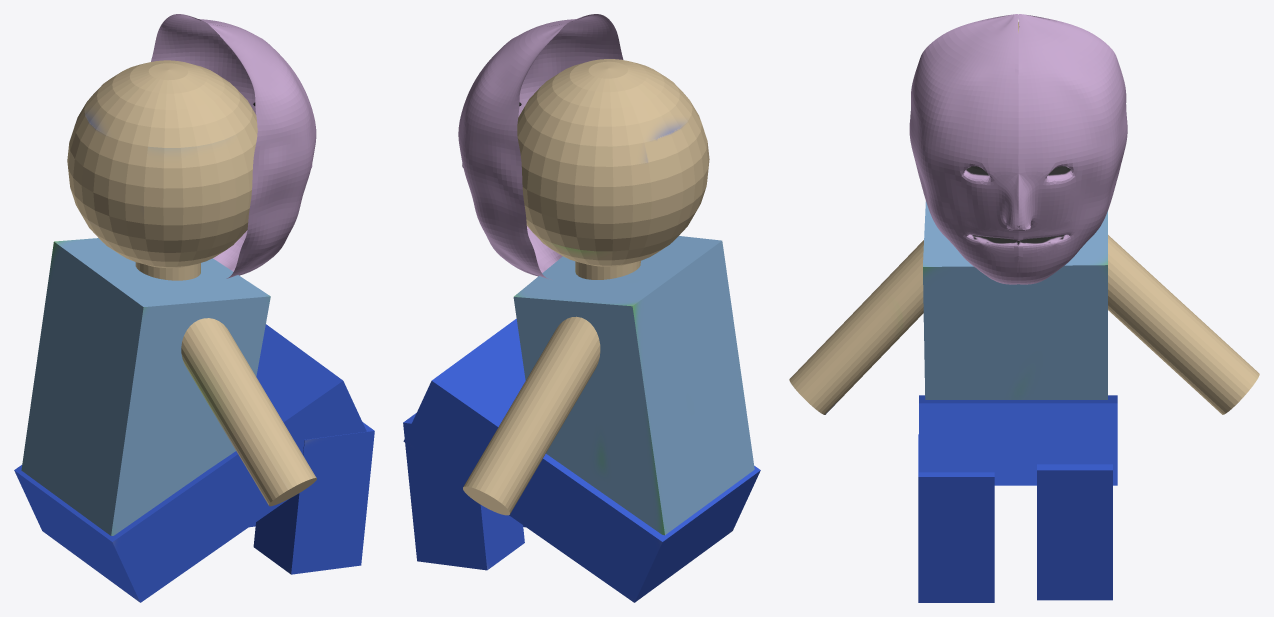
The model's file is person_sitting_neutral_color.fbx.
3 views of the same model, side by side, from view 1: azimuth 30°, elevation 25°; view 2: azimuth 150°, elevation 25°; view 3: azimuth 270°, elevation 25° (orthographic).
Visible parts, largest first — view 1: Cube, Sphere; view 2: Cube, Sphere; view 3: Cube, Sphere.
Boxes of the visible parts, bbox=[...] form: Cube: bbox=[14, 60, 374, 602]; Sphere: bbox=[151, 14, 316, 278]; Cube: bbox=[403, 59, 760, 602]; Sphere: bbox=[458, 14, 623, 279]; Cube: bbox=[789, 21, 1259, 602]; Sphere: bbox=[909, 14, 1127, 284].
Size of the model in its own units: 240 by 465 by 369.
Materials: 2 (2 with a texture image).
